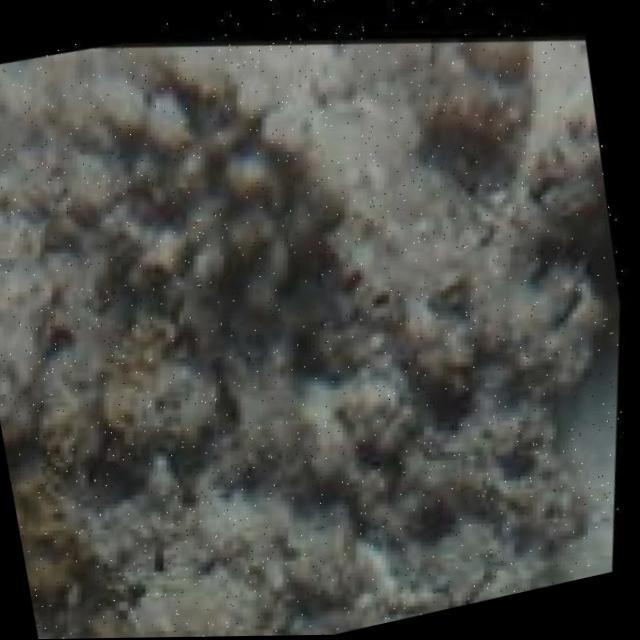Dead Coral: (61, 58, 353, 384)
